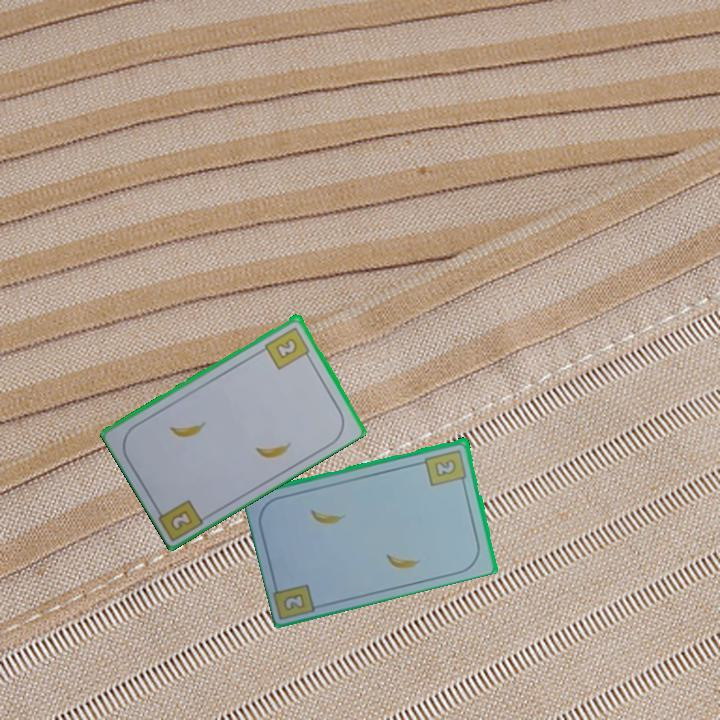2b: (261, 323, 314, 372), (422, 446, 470, 489), (167, 506, 196, 533), (280, 589, 308, 614)
